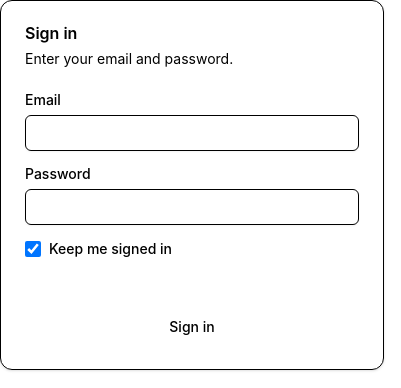
Test: SignInForm › goes back from the two-factor step to the form
Type "ada@example.com" into the field labelled "Email".
click(192, 133); type("ada@example.com")  # box left=25, top=115, right=359, bottom=151
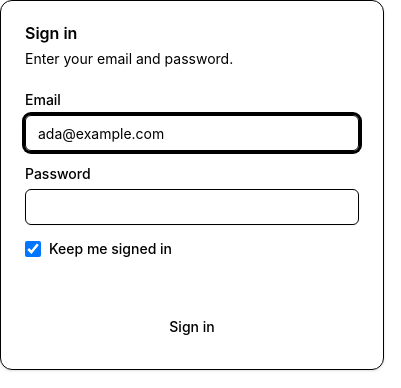
Type "correct horse" into the password field labelled "Password".
click(192, 207); type("correct horse")  # box left=25, top=189, right=359, bottom=225
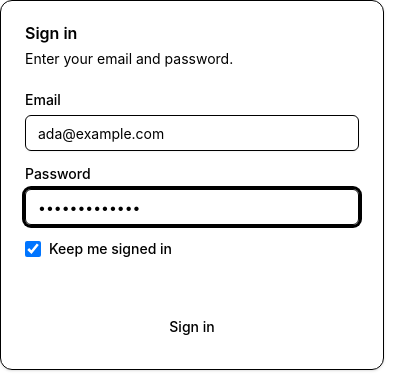
Click the button "Sign in".
click(192, 327)  # box left=25, top=309, right=359, bottom=345
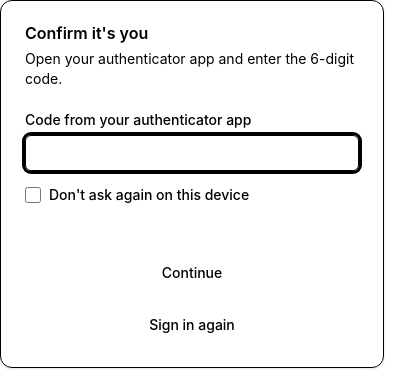
Click the button "Sign in again".
click(192, 325)  # box left=25, top=307, right=359, bottom=343
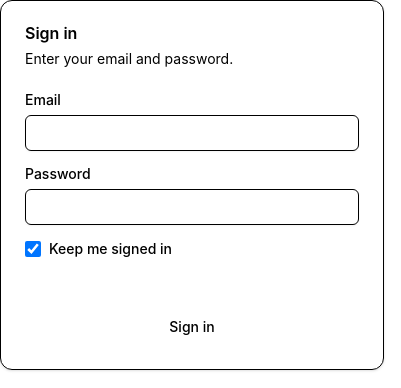
Result: the button "Sign in" is shown at left=25, top=309, right=359, bottom=345
